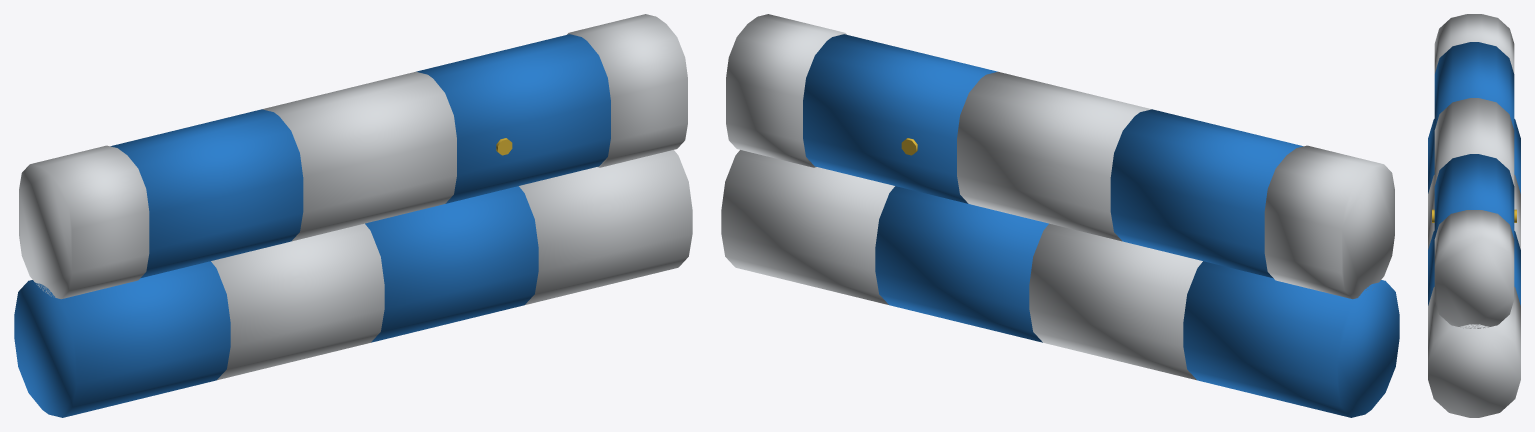
The model's file is aqua-border.glb.
3 renders of one model, left to right at view 1: azimuth 30°, elevation 25°; view 2: azimuth 150°, elevation 25°; view 3: azimuth 270°, elevation 25°, orthographic. The views are drawn at different scales.
Visible parts, largest first — view 1: aqua-border; view 2: aqua-border; view 3: aqua-border.
Boxes of the visible parts, x1,y1,x2,y2 form: aqua-border: [14, 14, 692, 417]; aqua-border: [721, 14, 1399, 417]; aqua-border: [1428, 14, 1520, 417].
Size of the model in its own units: 4 by 1.5 by 0.7.
